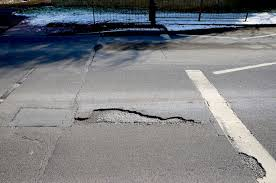pothole: (73, 105, 204, 135)
